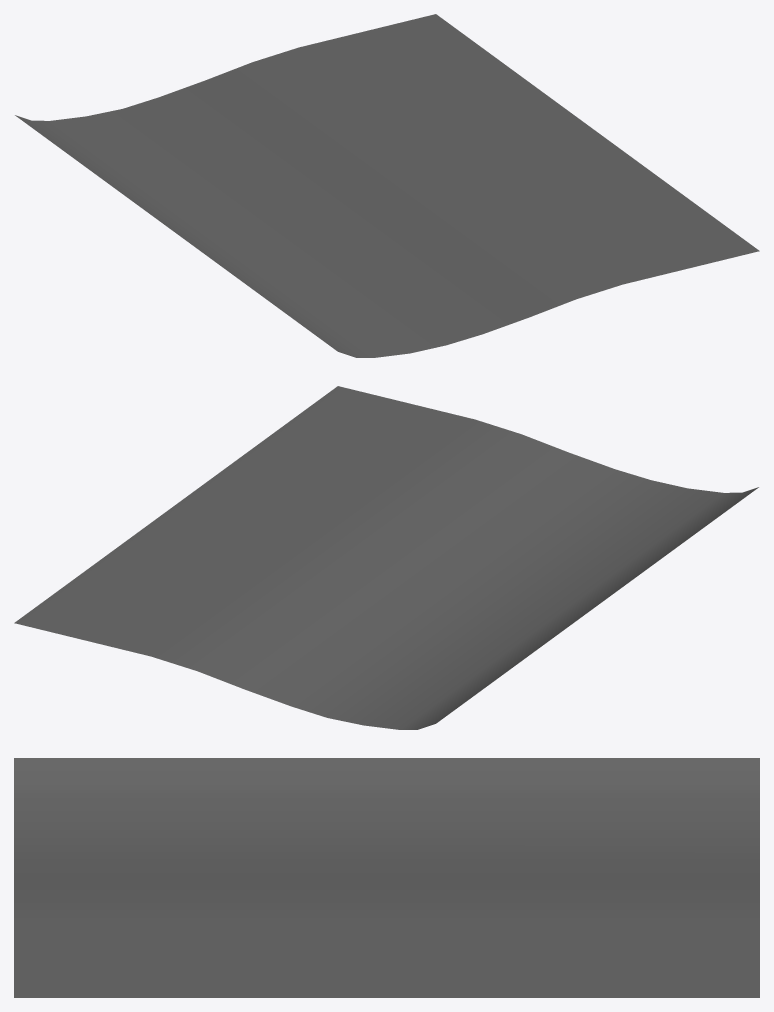
The model's file is Book_11_book_front_11_0.obj.
3 renders of one model, top to bottom at view 1: azimuth 30°, elevation 25°; view 2: azimuth 150°, elevation 25°; view 3: azimuth 270°, elevation 25°, orthographic. The views are drawn at different scales.
Size of the model in its own units: 0.1716 by 0.00804 by 0.2281.
Materials: 1 (1 with a texture image).
